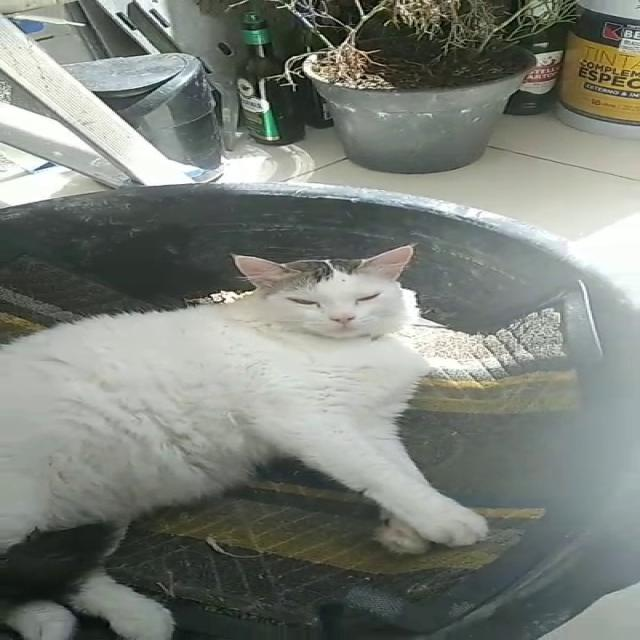Simba: (1, 213, 566, 639)
